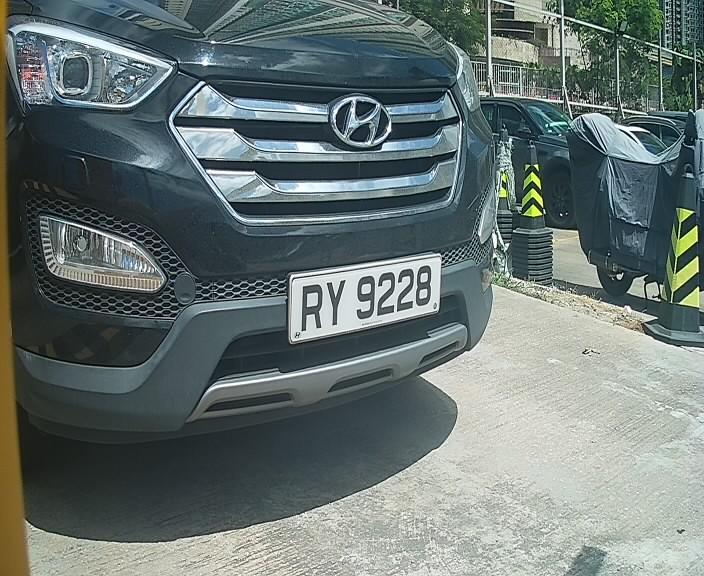License Plate: (287, 250, 437, 345)
